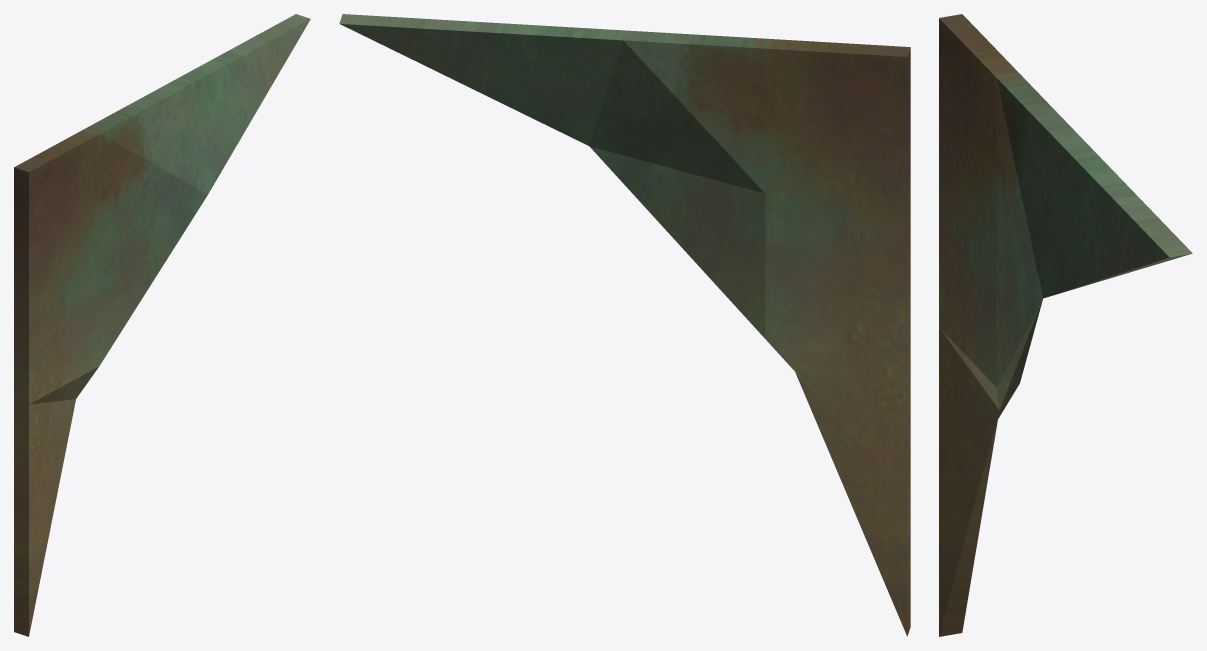
File: GH_1_EmbR_6.gltf
3 views of the same model, side by side, from view 1: azimuth 30°, elevation 25°; view 2: azimuth 150°, elevation 25°; view 3: azimuth 270°, elevation 25° (orthographic). The views are drawn at different scales.
Visible parts, largest first — view 1: GH_1_EmbR_6; view 2: GH_1_EmbR_6; view 3: GH_1_EmbR_6.
Boxes of the visible parts, x1,y1,x2,y2 form: GH_1_EmbR_6: [14, 14, 310, 636]; GH_1_EmbR_6: [339, 14, 910, 636]; GH_1_EmbR_6: [939, 14, 1192, 636].
Bounding box in the file's own units: 1.18 × 1.4 × 0.5207.
1 material, 1 textured.
